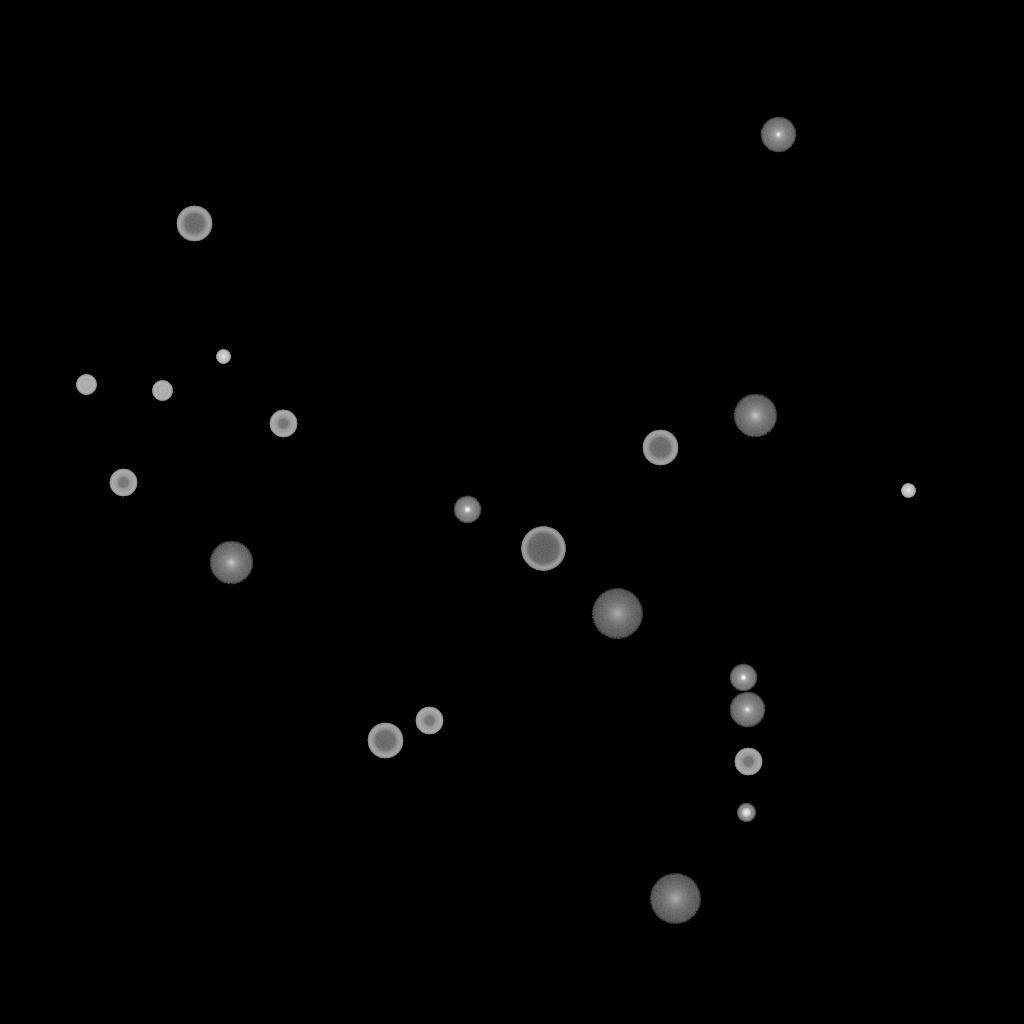depth:-10: (729, 664, 757, 692), (453, 496, 481, 524)
depth:-20: (737, 804, 755, 822)
depth:-30: (901, 484, 915, 498), (216, 350, 230, 364)
depth:-40: (152, 381, 172, 401), (76, 375, 96, 395)
depth:-50: (734, 748, 762, 776), (269, 410, 297, 438), (109, 469, 137, 497), (415, 707, 443, 735)
depth:-60: (176, 206, 212, 242), (642, 430, 678, 466), (367, 723, 403, 759)
depth:-70: (521, 527, 565, 571)
depth:0: (760, 117, 796, 153), (729, 692, 765, 728)
depth:10: (733, 394, 777, 438), (209, 541, 253, 585)
depth:20: (591, 589, 643, 639), (649, 874, 701, 924)
